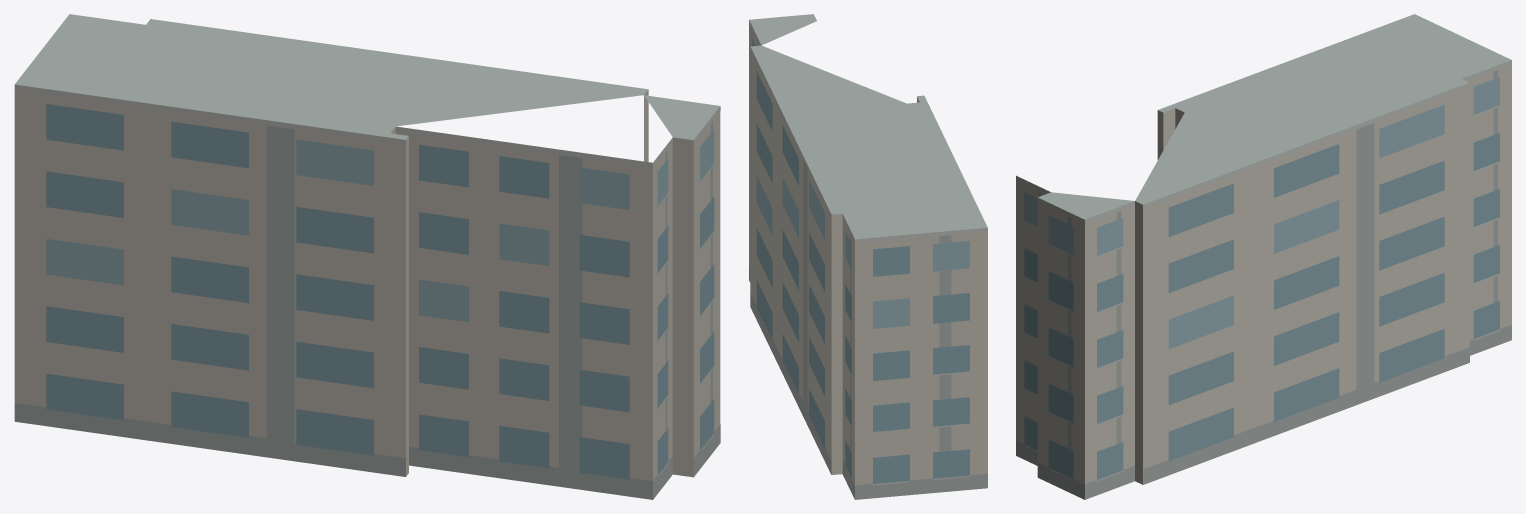
Rendered from survey-upis-33012829.glb.
3 views of the same model, side by side, from view 1: azimuth 30°, elevation 25°; view 2: azimuth 150°, elevation 25°; view 3: azimuth 270°, elevation 25° (orthographic). The views are drawn at different scales.
Parts seen in each view (by area): view 1: survey-upis-33012829.tmp; view 2: survey-upis-33012829.tmp; view 3: survey-upis-33012829.tmp.
Part boxes in pixels (<box>): survey-upis-33012829.tmp: <box>14,14,720,499</box>; survey-upis-33012829.tmp: <box>749,14,987,499</box>; survey-upis-33012829.tmp: <box>1016,14,1511,499</box>.
Size of the model in its own units: 24.02 by 15.25 by 24.46.
